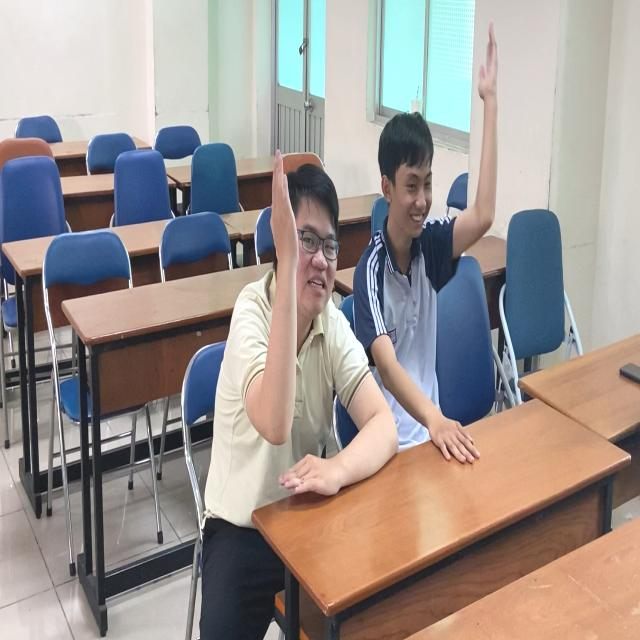raise_hand: (368, 16, 509, 412), (220, 150, 344, 482)
